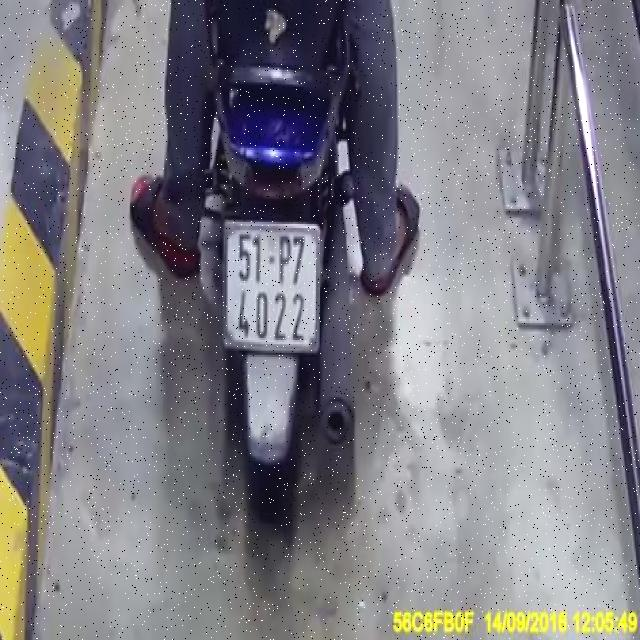0: (254, 290, 270, 340)
1: (252, 231, 263, 284)
2: (270, 291, 290, 338), (290, 292, 306, 340)
4: (238, 284, 250, 339)
7: (292, 232, 306, 289)
B: (220, 219, 321, 356)
P: (278, 234, 290, 288)
